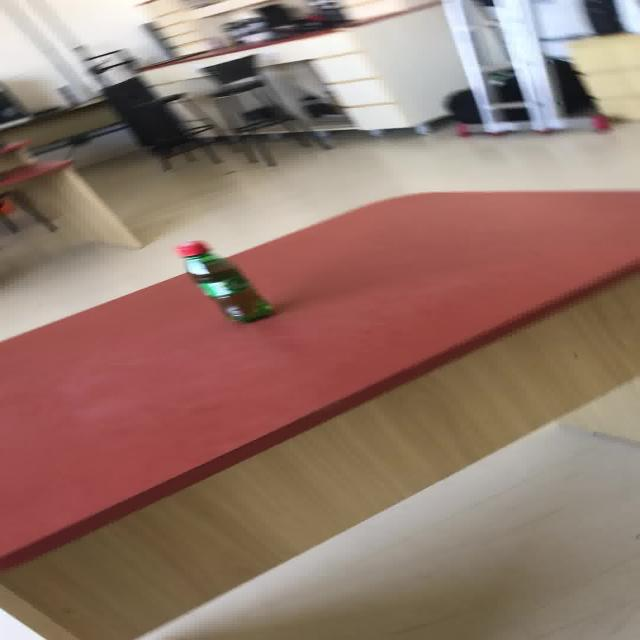guarana: (172, 239, 276, 323)
